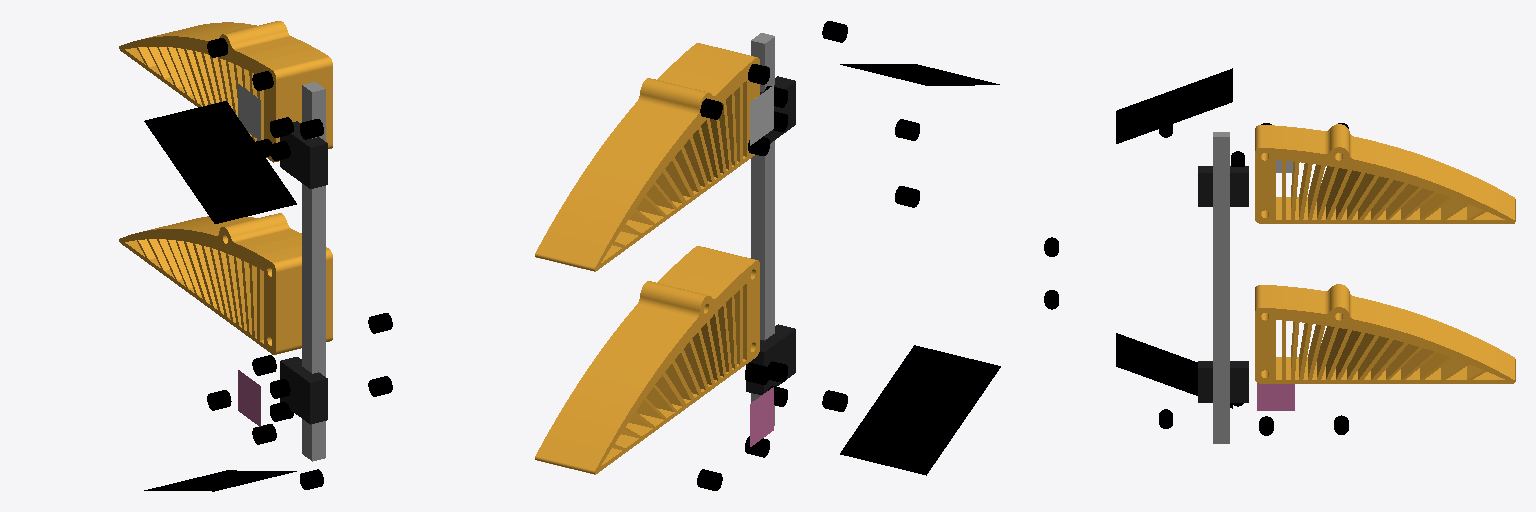
URDF robot description (ur5_umi):
<!-- =================================================================================== --><!-- |    This document was autogenerated by xacro from /tmp/umi-ur-index/share/ur_description/urdf/ur.urdf.xacro | --><!-- |    EDITING THIS FILE BY HAND IS NOT RECOMMENDED                                 | --><!-- =================================================================================== --><robot name="ur5_umi">
  <!--
    Base UR robot series xacro macro.

    NOTE this is NOT a URDF. It cannot directly be loaded by consumers
    expecting a flattened '.urdf' file. See the top-level '.xacro' for that
    (but note that .xacro must still be processed by the xacro command).

    This file models the base kinematic chain of a UR robot, which then gets
    parameterised by various configuration files to convert it into a UR3(e),
    UR5(e), UR10(e) or UR16e, etc.

    NOTE the default kinematic parameters (i.e., link lengths, frame locations,
    offsets, etc) do not correspond to any particular robot. They are defaults
    only. There WILL be non-zero offsets between the Forward Kinematics results
    in TF (i.e., robot_state_publisher) and the values reported by the Teach
    Pendant.

    For accurate (and robot-specific) transforms, the 'kinematics_parameters_file'
    parameter MUST point to a .yaml file containing the appropriate values for
    the targeted robot.

    If using the UniversalRobots/Universal_Robots_ROS_Driver, follow the steps
    described in the readme of that repository to extract the kinematic
    calibration from the controller and generate the required .yaml file.

    Main author of the migration to yaml configs Ludovic Delval.

    Contributors to previous versions (in no particular order)

     - Denis Stogl
     - Lovro Ivanov
     - Felix Messmer
     - Kelsey Hawkins
     - Wim Meeussen
     - Shaun Edwards
     - Nadia Hammoudeh Garcia
     - Dave Hershberger
     - G. vd. Hoorn
     - Philip Long
     - Dave Coleman
     - Miguel Prada
     - Mathias Luedtke
     - Marcel Schnirring
     - Felix von Drigalski
     - Felix Exner
     - Jimmy Da Silva
     - Ajit Krisshna N L
     - Muhammad Asif Rana
  -->
  <!-- create link fixed to the "world" -->
  <link name="world"/>
  <!-- links -  main serial chain -->
  <!-- base_link serves as the root of the robot's kinematic tree. It follows REP-103
        conventions (i.e., X+ forward, Y+ left, Z+ up).
        Since some kinematic solvers forbid having inertia values attached to a root link, we've
        added the base_link_inertia link that carries the visual, collision and inertia
        information.
    -->
  <link name="base_link"/>
  <link name="base_link_inertia">
    <visual>
      <origin rpy="0 0 3.141592653589793" xyz="0 0 0"/>
      <geometry>
        <mesh filename="package://ur_description/meshes/ur5/visual/base.dae"/>
      </geometry>
    </visual>
    <collision>
      <origin rpy="0 0 3.141592653589793" xyz="0 0 0"/>
      <geometry>
        <mesh filename="package://ur_description/meshes/ur5/collision/base.stl"/>
      </geometry>
    </collision>
    <inertial>
      <mass value="4.0"/>
      <origin rpy="0 0 0" xyz="0 0 0"/>
      <inertia ixx="0.00443333156" ixy="0.0" ixz="0.0" iyy="0.00443333156" iyz="0.0" izz="0.0072"/>
    </inertial>
  </link>
  <link name="shoulder_link">
    <visual>
      <origin rpy="0 0 3.141592653589793" xyz="0 0 0"/>
      <geometry>
        <mesh filename="package://ur_description/meshes/ur5/visual/shoulder.dae"/>
      </geometry>
    </visual>
    <collision>
      <origin rpy="0 0 3.141592653589793" xyz="0 0 0"/>
      <geometry>
        <mesh filename="package://ur_description/meshes/ur5/collision/shoulder.stl"/>
      </geometry>
    </collision>
    <inertial>
      <mass value="3.7"/>
      <origin rpy="0 0 0" xyz="0.0 -0.00193 -0.02561"/>
      <inertia ixx="0.014972358333333331" ixy="0" ixz="0" iyy="0.014972358333333331" iyz="0" izz="0.01040625"/>
    </inertial>
  </link>
  <link name="upper_arm_link">
    <visual>
      <origin rpy="1.5707963267948966 0 -1.5707963267948966" xyz="0 0 0.13585"/>
      <geometry>
        <mesh filename="package://ur_description/meshes/ur5/visual/upperarm.dae"/>
      </geometry>
    </visual>
    <collision>
      <origin rpy="1.5707963267948966 0 -1.5707963267948966" xyz="0 0 0.13585"/>
      <geometry>
        <mesh filename="package://ur_description/meshes/ur5/collision/upperarm.stl"/>
      </geometry>
    </collision>
    <inertial>
      <mass value="8.393"/>
      <origin rpy="0 1.570796326794897 0" xyz="-0.2125 0.0 0.11336"/>
      <inertia ixx="0.13388583541666665" ixy="0" ixz="0" iyy="0.13388583541666665" iyz="0" izz="0.0151074"/>
    </inertial>
  </link>
  <link name="forearm_link">
    <visual>
      <origin rpy="1.5707963267948966 0 -1.5707963267948966" xyz="0 0 0.0165"/>
      <geometry>
        <mesh filename="package://ur_description/meshes/ur5/visual/forearm.dae"/>
      </geometry>
    </visual>
    <collision>
      <origin rpy="1.5707963267948966 0 -1.5707963267948966" xyz="0 0 0.0165"/>
      <geometry>
        <mesh filename="package://ur_description/meshes/ur5/collision/forearm.stl"/>
      </geometry>
    </collision>
    <inertial>
      <mass value="2.33"/>
      <origin rpy="0 1.570796326794897 0" xyz="-0.24225 0.0 0.0265"/>
      <inertia ixx="0.031216803515624995" ixy="0" ixz="0" iyy="0.031216803515624995" iyz="0" izz="0.004095"/>
    </inertial>
  </link>
  <link name="wrist_1_link">
    <visual>
      <origin rpy="1.5707963267948966 0 0" xyz="0 0 -0.093"/>
      <geometry>
        <mesh filename="package://ur_description/meshes/ur5/visual/wrist1.dae"/>
      </geometry>
    </visual>
    <collision>
      <origin rpy="1.5707963267948966 0 0" xyz="0 0 -0.093"/>
      <geometry>
        <mesh filename="package://ur_description/meshes/ur5/collision/wrist1.stl"/>
      </geometry>
    </collision>
    <inertial>
      <mass value="1.219"/>
      <origin rpy="0 0 0" xyz="0.0 -0.01634 -0.0018"/>
      <inertia ixx="0.002013889583333333" ixy="0" ixz="0" iyy="0.002013889583333333" iyz="0" izz="0.0021942"/>
    </inertial>
  </link>
  <link name="wrist_2_link">
    <visual>
      <origin rpy="0 0 0" xyz="0 0 -0.095"/>
      <geometry>
        <mesh filename="package://ur_description/meshes/ur5/visual/wrist2.dae"/>
      </geometry>
    </visual>
    <collision>
      <origin rpy="0 0 0" xyz="0 0 -0.095"/>
      <geometry>
        <mesh filename="package://ur_description/meshes/ur5/collision/wrist2.stl"/>
      </geometry>
    </collision>
    <inertial>
      <mass value="1.219"/>
      <origin rpy="0 0 0" xyz="0.0 0.01634 -0.0018"/>
      <inertia ixx="0.0018310395833333333" ixy="0" ixz="0" iyy="0.0018310395833333333" iyz="0" izz="0.0021942"/>
    </inertial>
  </link>
  <link name="wrist_3_link">
    <visual>
      <origin rpy="1.5707963267948966 0 0" xyz="0 0 -0.0818"/>
      <geometry>
        <mesh filename="package://ur_description/meshes/ur5/visual/wrist3.dae"/>
      </geometry>
    </visual>
    <collision>
      <origin rpy="1.5707963267948966 0 0" xyz="0 0 -0.0818"/>
      <geometry>
        <mesh filename="package://ur_description/meshes/ur5/collision/wrist3.stl"/>
      </geometry>
    </collision>
    <inertial>
      <mass value="0.1879"/>
      <origin rpy="0 0 0" xyz="0.0 0.0 -0.001159"/>
      <inertia ixx="8.062475833333332e-05" ixy="0" ixz="0" iyy="8.062475833333332e-05" iyz="0" izz="0.0001321171875"/>
    </inertial>
  </link>
  <!-- base_joint fixes base_link to the environment -->
  <joint name="base_joint" type="fixed">
    <origin rpy="0 0 0" xyz="0 0 0"/>
    <parent link="world"/>
    <child link="base_link"/>
  </joint>
  <!-- joints - main serial chain -->
  <joint name="base_link-base_link_inertia" type="fixed">
    <parent link="base_link"/>
    <child link="base_link_inertia"/>
    <!-- 'base_link' is REP-103 aligned (so X+ forward), while the internal
           frames of the robot/controller have X+ pointing backwards.
           Use the joint between 'base_link' and 'base_link_inertia' (a dummy
           link/frame) to introduce the necessary rotation over Z (of pi rad).
      -->
    <origin rpy="0 0 3.141592653589793" xyz="0 0 0"/>
  </joint>
  <joint name="shoulder_pan_joint" type="revolute">
    <parent link="base_link_inertia"/>
    <child link="shoulder_link"/>
    <origin rpy="0 0 0" xyz="0 0 0.089159"/>
    <axis xyz="0 0 1"/>
    <limit effort="150.0" lower="-6.283185307179586" upper="6.283185307179586" velocity="3.141592653589793"/>
    <dynamics damping="0" friction="0"/>
  </joint>
  <joint name="shoulder_lift_joint" type="revolute">
    <parent link="shoulder_link"/>
    <child link="upper_arm_link"/>
    <origin rpy="1.570796327 0 0" xyz="0 0 0"/>
    <axis xyz="0 0 1"/>
    <limit effort="150.0" lower="-6.283185307179586" upper="6.283185307179586" velocity="3.141592653589793"/>
    <dynamics damping="0" friction="0"/>
  </joint>
  <joint name="elbow_joint" type="revolute">
    <parent link="upper_arm_link"/>
    <child link="forearm_link"/>
    <origin rpy="0 0 0" xyz="-0.425 0 0"/>
    <axis xyz="0 0 1"/>
    <limit effort="150.0" lower="-3.141592653589793" upper="3.141592653589793" velocity="3.141592653589793"/>
    <dynamics damping="0" friction="0"/>
  </joint>
  <joint name="wrist_1_joint" type="revolute">
    <parent link="forearm_link"/>
    <child link="wrist_1_link"/>
    <origin rpy="0 0 0" xyz="-0.39225 0 0.10915"/>
    <axis xyz="0 0 1"/>
    <limit effort="28.0" lower="-6.283185307179586" upper="6.283185307179586" velocity="3.141592653589793"/>
    <dynamics damping="0" friction="0"/>
  </joint>
  <joint name="wrist_2_joint" type="revolute">
    <parent link="wrist_1_link"/>
    <child link="wrist_2_link"/>
    <origin rpy="1.570796327 0 0" xyz="0 -0.09465 -1.941303950897609e-11"/>
    <axis xyz="0 0 1"/>
    <limit effort="28.0" lower="-6.283185307179586" upper="6.283185307179586" velocity="3.141592653589793"/>
    <dynamics damping="0" friction="0"/>
  </joint>
  <joint name="wrist_3_joint" type="revolute">
    <parent link="wrist_2_link"/>
    <child link="wrist_3_link"/>
    <origin rpy="1.570796326589793 3.141592653589793 3.141592653589793" xyz="0 0.0823 -1.688001216681175e-11"/>
    <axis xyz="0 0 1"/>
    <limit effort="28.0" lower="-6.283185307179586" upper="6.283185307179586" velocity="3.141592653589793"/>
    <dynamics damping="0" friction="0"/>
  </joint>
  <link name="ft_frame"/>
  <joint name="wrist_3_link-ft_frame" type="fixed">
    <parent link="wrist_3_link"/>
    <child link="ft_frame"/>
    <origin rpy="3.141592653589793 0 0" xyz="0 0 0"/>
  </joint>
  <!-- ROS-Industrial 'base' frame - base_link to UR 'Base' Coordinates transform -->
  <link name="base"/>
  <joint name="base_link-base_fixed_joint" type="fixed">
    <!-- Note the rotation over Z of pi radians - as base_link is REP-103
           aligned (i.e., has X+ forward, Y+ left and Z+ up), this is needed
           to correctly align 'base' with the 'Base' coordinate system of
           the UR controller.
      -->
    <origin rpy="0 0 3.141592653589793" xyz="0 0 0"/>
    <parent link="base_link"/>
    <child link="base"/>
  </joint>
  <!-- ROS-Industrial 'flange' frame - attachment point for EEF models -->
  <link name="flange"/>
  <joint name="wrist_3-flange" type="fixed">
    <parent link="wrist_3_link"/>
    <child link="flange"/>
    <origin rpy="0 -1.5707963267948966 -1.5707963267948966" xyz="0 0 0"/>
  </joint>
  <!-- ROS-Industrial 'tool0' frame - all-zeros tool frame -->
  <link name="tool0"/>
  <joint name="flange-tool0" type="fixed">
    <!-- default toolframe - X+ left, Y+ up, Z+ front -->
    <origin rpy="1.5707963267948966 0 1.5707963267948966" xyz="0 0 0"/>
    <parent link="flange"/>
    <child link="tool0"/>
  </joint>
<material name="umi_mirror">
    <color rgba="0 0 0 1"/>
  </material><material name="umi_white">
    <color rgba="1 1 1 1"/>
  </material><material name="umi_gray">
    <color rgba="0.15 0.15 0.15 1"/>
  </material><material name="umi_light_gray">
    <color rgba="0.6 0.6 0.6 1"/>
  </material><material name="umi_orange">
    <color rgba="0.92 0.68 0.24 1"/>
  </material><material name="umi_black">
    <color rgba="0 0 0 1"/>
  </material><link name="body1">
    <visual name="linear_guide_rail">
      <origin xyz="0 -0.002 0.062" rpy="0 0 0"/>
      <geometry>
        <box size="0.16 0.006 0.008"/>
      </geometry>
      <material name="umi_light_gray"/>
    </visual>
    <visual name="left_mirror">
      <origin xyz="-0.069 -0.057 0.04" rpy="0 1.1901519891862662 0"/>
      <geometry>
        <box size="0.06 0.0374 0.0002"/>
      </geometry>
      <material name="umi_mirror"/>
    </visual>
    <visual name="right_mirror">
      <origin xyz="0.069 -0.057 0.04" rpy="0 -1.1901519891862662 0"/>
      <geometry>
        <box size="0.06 0.0374 0.0002"/>
      </geometry>
      <material name="umi_mirror"/>
    </visual>
    <visual>
      <geometry>
        <mesh filename="package://umi_gripper/meshes/base_link.stl"/>
      </geometry>
      <material name="umi_white"/>
    </visual>
    <visual name="left_center_base_screw">
      <origin xyz="-0.076 -0.018 0.036" rpy="-1.5707963267948968 0 0"/>
      <geometry>
        <cylinder radius="0.0035" length="0.007"/>
      </geometry>
      <material name="umi_black"/>
    </visual>
    <visual name="right_center_base_screw">
      <origin xyz="0.076 -0.018 0.036" rpy="-1.5707963267948968 0 0"/>
      <geometry>
        <cylinder radius="0.0035" length="0.007"/>
      </geometry>
      <material name="umi_black"/>
    </visual>
    <visual name="left_back_base_screw">
      <origin xyz="-0.0137 -0.018 -0.018" rpy="-1.5707963267948968 0 0"/>
      <geometry>
        <cylinder radius="0.0035" length="0.007"/>
      </geometry>
      <material name="umi_black"/>
    </visual>
    <visual name="right_back_base_screw">
      <origin xyz="0.0137 -0.018 -0.018" rpy="-1.5707963267948968 0 0"/>
      <geometry>
        <cylinder radius="0.0035" length="0.007"/>
      </geometry>
      <material name="umi_black"/>
    </visual>
    <visual>
      <origin xyz="0.01965 -0.07875 -0.0187" rpy="-1.5707963267948968 0 3.141592653589793"/>
      <geometry>
        <mesh filename="package://umi_gripper/meshes/gopro.stl"/>
      </geometry>
      <material name="umi_gray"/>
    </visual>
    <collision>
      <geometry>
        <mesh filename="package://umi_gripper/meshes/base_link.stl"/>
      </geometry>
    </collision>
    <collision>
      <origin xyz="0.01965 -0.07875 -0.0187" rpy="-1.5707963267948968 0 3.141592653589793"/>
      <geometry>
        <mesh filename="package://umi_gripper/meshes/gopro.stl"/>
      </geometry>
    </collision>
  </link><link name="left_finger_holder">
    <inertial>
      <origin xyz="-0.0613355 0.104073 -0.0013157" rpy="-1.1769009428563746 -1.3849810823943285 2.651450192417947"/>
      <mass value="0.080081"/>
      <inertia ixx="0.000104597" ixy="0" ixz="0" iyy="0.000102992" iyz="0" izz="0.0000190532"/>
    </inertial>
    <visual name="left_screw_back_outside">
      <origin xyz="-0.0515 0.07 0.012" rpy="0 0 0"/>
      <geometry>
        <cylinder radius="0.0035" length="0.007"/>
      </geometry>
      <material name="umi_black"/>
    </visual>
    <visual name="left_screw_back_inside">
      <origin xyz="-0.0615 0.07 0.012" rpy="0 0 0"/>
      <geometry>
        <cylinder radius="0.0035" length="0.007"/>
      </geometry>
      <material name="umi_black"/>
    </visual>
    <visual name="left_screw_middle_outside">
      <origin xyz="-0.0768 0.0835 0.012" rpy="0 0 0"/>
      <geometry>
        <cylinder radius="0.0035" length="0.007"/>
      </geometry>
      <material name="umi_black"/>
    </visual>
    <visual name="left_screw_middle_inside">
      <origin xyz="-0.047 0.0835 0.012" rpy="0 0 0"/>
      <geometry>
        <cylinder radius="0.0035" length="0.007"/>
      </geometry>
      <material name="umi_black"/>
    </visual>
    <visual name="left_screw_front">
      <origin xyz="-0.0764 0.119 0.012" rpy="0 0 0"/>
      <geometry>
        <cylinder radius="0.0035" length="0.007"/>
      </geometry>
      <material name="umi_black"/>
    </visual>
    <visual name="left_rail_block">
      <origin xyz="-0.051 0.063 0.006" rpy="0 0 0"/>
      <geometry>
        <box size="0.018 0.024 0.008"/>
      </geometry>
      <material name="umi_gray"/>
    </visual>
    <visual name="left_marker">
      <origin xyz="-0.062 0.088 0.0164" rpy="0 0 0"/>
      <geometry>
        <box size="0.018 0.018 0.00002"/>
      </geometry>
    </visual>
    <visual>
      <geometry>
        <mesh filename="package://umi_gripper/meshes/left_finger_holder.stl"/>
      </geometry>
      <material name="umi_white"/>
    </visual>
    <visual>
      <origin xyz="-0.041722 0.0779 -0.0159" rpy="-1.5707963267948968 0 3.141592653589793"/>
      <geometry>
        <mesh filename="package://umi_gripper/meshes/left_finger.stl"/>
      </geometry>
      <material name="umi_orange"/>
    </visual>
    <collision>
      <geometry>
        <mesh filename="package://umi_gripper/meshes/left_finger_holder.stl"/>
      </geometry>
    </collision>
    <collision>
      <origin xyz="-0.041722 0.0779 -0.0159" rpy="-1.5707963267948968 0 3.141592653589793"/>
      <geometry>
        <mesh filename="package://umi_gripper/meshes/left_finger.stl"/>
      </geometry>
    </collision>
  </link><link name="right_finger_holder">
    <inertial>
      <origin xyz="0.0613353 0.104073 -0.00131574" rpy="1.1769464976769313 -1.384964732758037 0.4901050283343764"/>
      <mass value="0.080081"/>
      <inertia ixx="0.000104597" ixy="0" ixz="0" iyy="0.000102992" iyz="0" izz="0.0000190532"/>
    </inertial>
    <visual name="right_screw_back_outside">
      <origin xyz="0.0515 0.07 0.012" rpy="0 0 0"/>
      <geometry>
        <cylinder radius="0.0035" length="0.007"/>
      </geometry>
      <material name="umi_black"/>
    </visual>
    <visual name="right_screw_back_inside">
      <origin xyz="0.0615 0.07 0.012" rpy="0 0 0"/>
      <geometry>
        <cylinder radius="0.0035" length="0.007"/>
      </geometry>
      <material name="umi_black"/>
    </visual>
    <visual name="right_screw_middle_outside">
      <origin xyz="0.0764 0.0835 0.012" rpy="0 0 0"/>
      <geometry>
        <cylinder radius="0.0035" length="0.007"/>
      </geometry>
      <material name="umi_black"/>
    </visual>
    <visual name="right_screw_middle_inside">
      <origin xyz="0.047 0.0835 0.012" rpy="0 0 0"/>
      <geometry>
        <cylinder radius="0.0035" length="0.007"/>
      </geometry>
      <material name="umi_black"/>
    </visual>
    <visual name="right_screw_front">
      <origin xyz="0.0764 0.119 0.012" rpy="0 0 0"/>
      <geometry>
        <cylinder radius="0.0035" length="0.007"/>
      </geometry>
      <material name="umi_black"/>
    </visual>
    <visual name="right_rail_block">
      <origin xyz="0.051 0.063 0.006" rpy="0 0 0"/>
      <geometry>
        <box size="0.018 0.024 0.008"/>
      </geometry>
      <material name="umi_gray"/>
    </visual>
    <visual name="right_marker">
      <origin xyz="0.062 0.088 0.0164" rpy="0 0 0"/>
      <geometry>
        <box size="0.018 0.018 0.00002"/>
      </geometry>
    </visual>
    <visual>
      <geometry>
        <mesh filename="package://umi_gripper/meshes/right_finger_holder.stl"/>
      </geometry>
      <material name="umi_white"/>
    </visual>
    <visual>
      <origin xyz="0.041722 0.0779 0.0099" rpy="1.5707963267948968 0 0"/>
      <geometry>
        <mesh filename="package://umi_gripper/meshes/right_finger.stl"/>
      </geometry>
      <material name="umi_orange"/>
    </visual>
    <collision>
      <geometry>
        <mesh filename="package://umi_gripper/meshes/right_finger_holder.stl"/>
      </geometry>
    </collision>
    <collision>
      <origin xyz="0.041722 0.0779 0.0099" rpy="1.5707963267948968 0 0"/>
      <geometry>
        <mesh filename="package://umi_gripper/meshes/right_finger.stl"/>
      </geometry>
    </collision>
  </link><!-- DEBUG / PLACEHOLDER: identity only; the measured tool0-to-body1 transform is not yet known. --><joint name="ur5_to_umi_mount" type="fixed"><origin xyz="0 0 0.08" rpy="0 0 1.5707963267948966"/><parent link="tool0"/><child link="body1"/></joint><joint name="left_finger_joint" type="prismatic">
    <origin xyz="0 0 0" rpy="1.5707963267948968 0 0"/>
    <parent link="body1"/>
    <child link="left_finger_holder"/>
    <axis xyz="1 0 0"/>
    <limit lower="0" upper="0.05" effort="0" velocity="0"/>
    <dynamics damping="10.1" friction="0.1"/>
  </joint><joint name="right_finger_joint" type="prismatic">
    <origin xyz="0 0 0" rpy="1.5707963267948968 0 0"/>
    <parent link="body1"/>
    <child link="right_finger_holder"/>
    <axis xyz="-1 0 0"/>
    <limit lower="0" upper="0.05" effort="0" velocity="0"/>
    <dynamics damping="10.1" friction="0.1"/>
  </joint></robot>

--- What the picture shows (computed from the rendered views, not written in the file) ---
3 views of the same robot in one strip: view 1: azimuth 30°, elevation 25°; view 2: azimuth 150°, elevation 25°; view 3: azimuth 270°, elevation 25° (orthographic).
Robot: ur5_umi — 16 links, 15 joints (6 revolute, 2 prismatic, 7 fixed); root link world; default pose: every joint at zero.
Visible links, largest first — view 1: left_finger_holder, body1, right_finger_holder; view 2: left_finger_holder, right_finger_holder, body1; view 3: left_finger_holder, right_finger_holder, body1.
Link boxes in pixels (left/top/right/bottom): left_finger_holder: left=119, top=213, right=332, bottom=444; body1: left=144, top=82, right=392, bottom=491; right_finger_holder: left=119, top=21, right=332, bottom=188; left_finger_holder: left=535, top=246, right=795, bottom=490; right_finger_holder: left=535, top=43, right=795, bottom=271; body1: left=751, top=21, right=1000, bottom=475; left_finger_holder: left=1198, top=284, right=1515, bottom=435; right_finger_holder: left=1198, top=123, right=1515, bottom=223; body1: left=1044, top=68, right=1232, bottom=443.
Size in the robot's own frame: 0.0916 by 0.2228 by 0.162 metres.
Meshes: 13 distinct files referenced, 2 mesh visuals loaded (2 binary STL); not drawn: 11 (reference not matched to a file when rendering).
